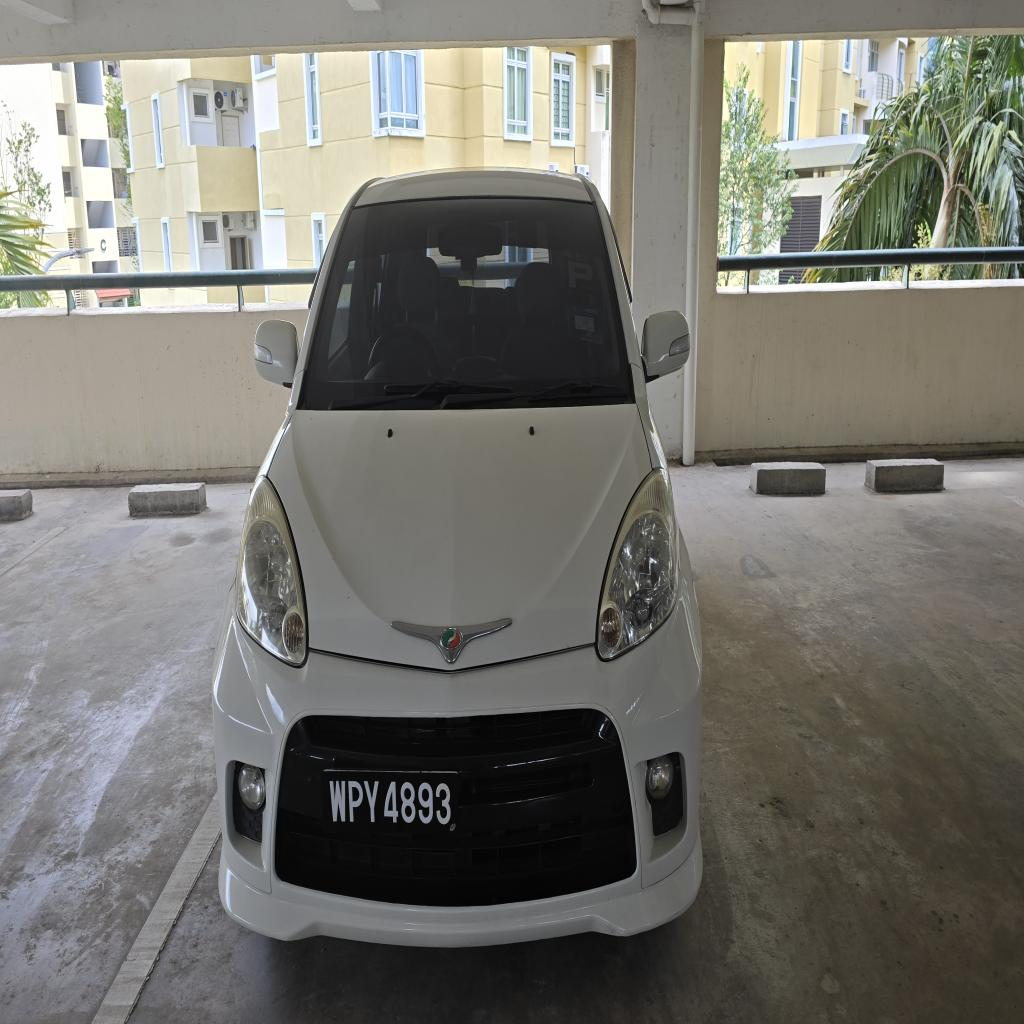car: (214, 170, 701, 944)
car plate: (323, 770, 457, 832)
